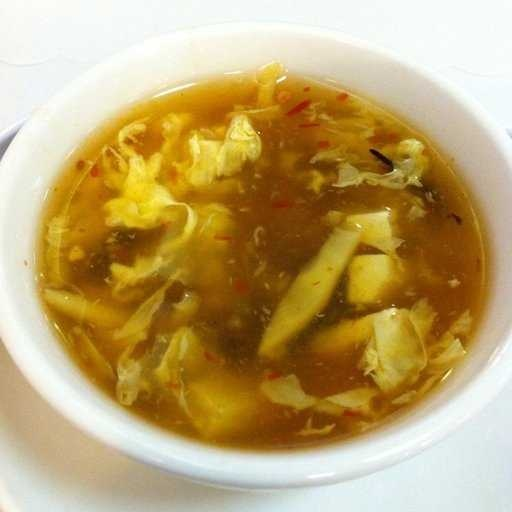soup: (1, 66, 489, 442)
